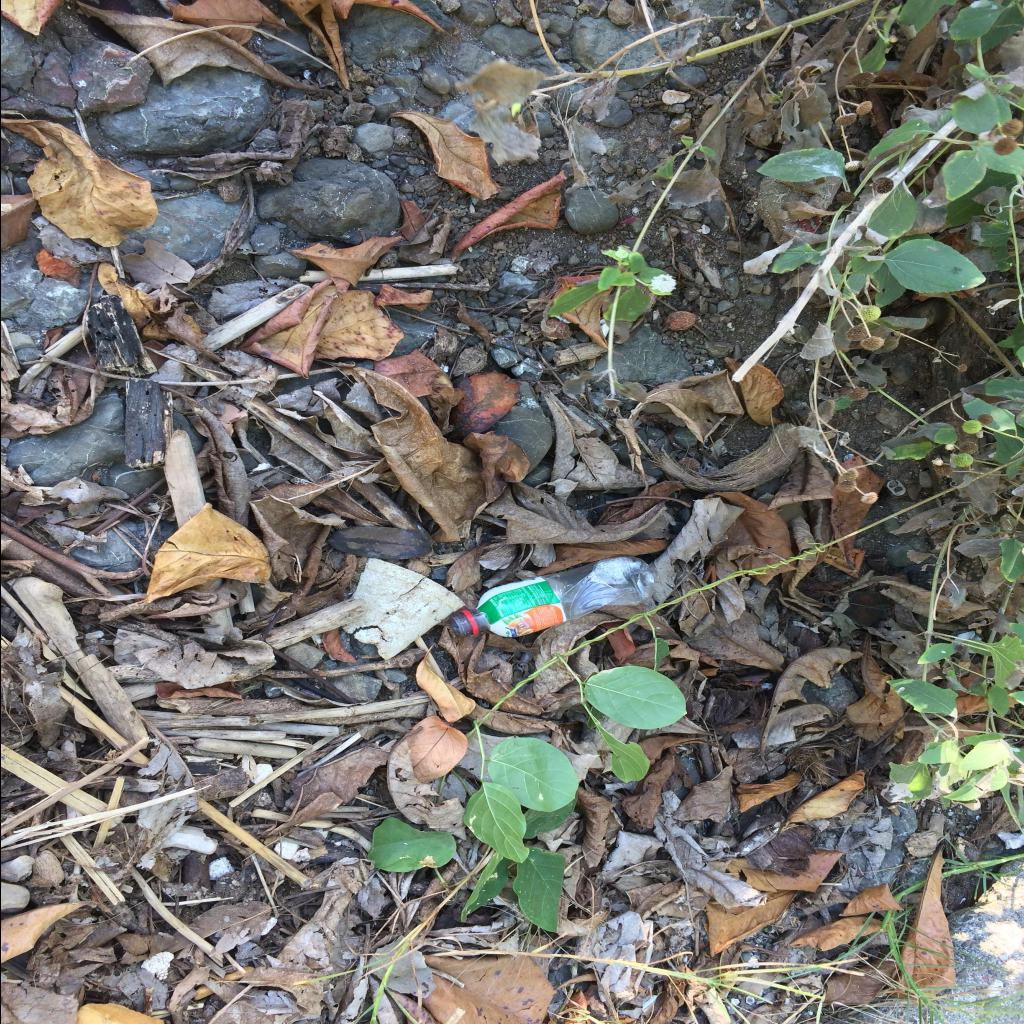Clear plastic bottle: (449, 556, 654, 638)
Styrofoam piece: (342, 558, 464, 660), (140, 952, 172, 980), (208, 857, 234, 880), (260, 918, 276, 936)
